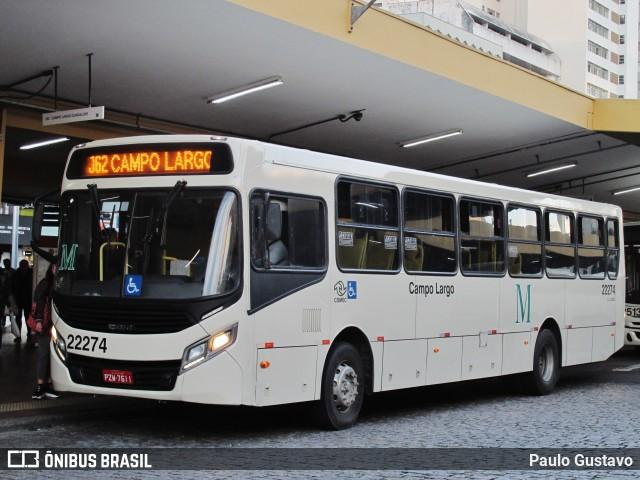CAMPO LARGO: (109, 148, 215, 175)
